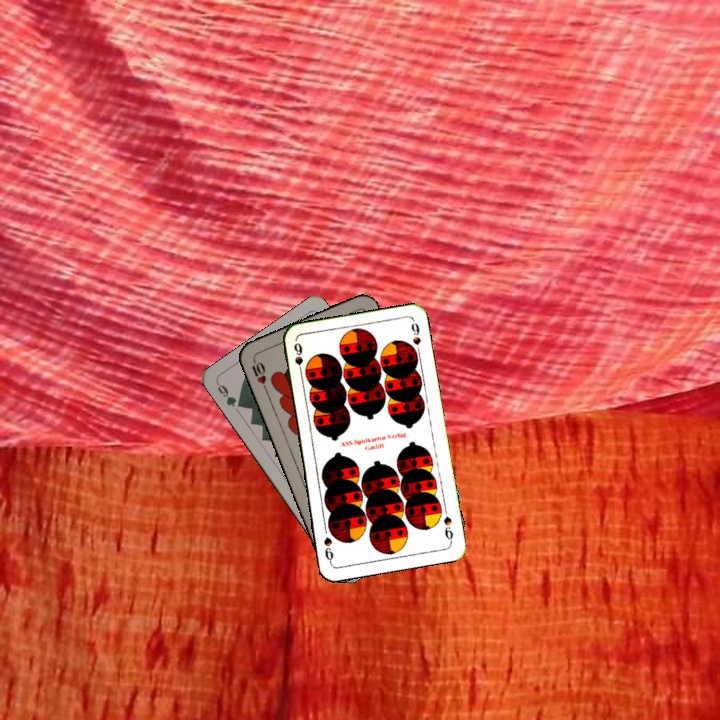G9: (213, 379, 246, 410)
H10: (247, 354, 270, 393)
S9: (290, 338, 305, 379), (439, 512, 456, 545)
